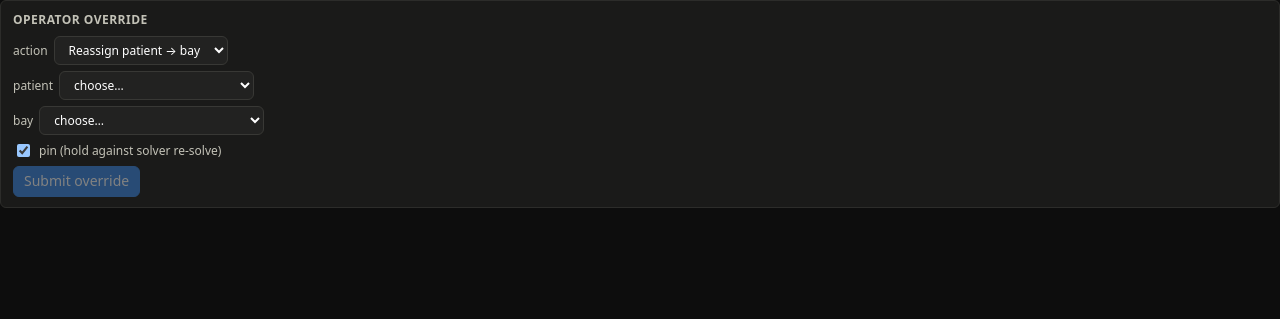
Test: OverridePanel reject path › renders every Violation verbatim: kind + detail + entity
Select "Reassign patient → bay" in the dropdown named "override action" at point(141, 51), box x1=54 y1=36 x2=228 y2=65
Select "p-0001 · ESI-3 · waiting_bay" in the dropdown labelled "patient" at point(157, 86), box x1=59 y1=71 x2=254 y2=100
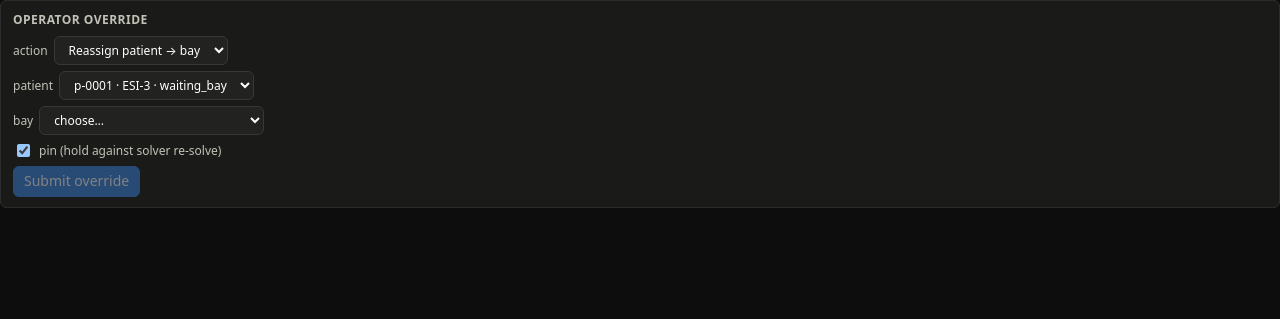
Select "bay-g1 · general · free" in the dropdown labelled "bay" at point(152, 121), box x1=39 y1=106 x2=264 y2=135
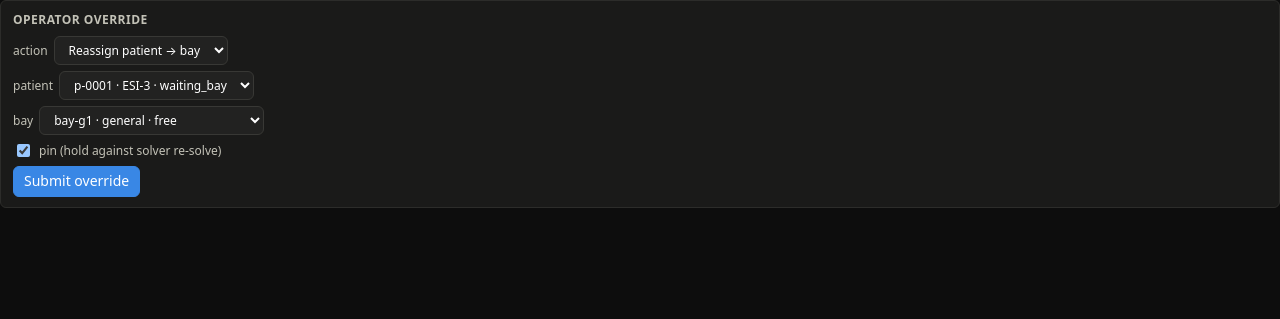
Click the button "Submit override".
click(77, 182)  # box x1=13 y1=166 x2=140 y2=197
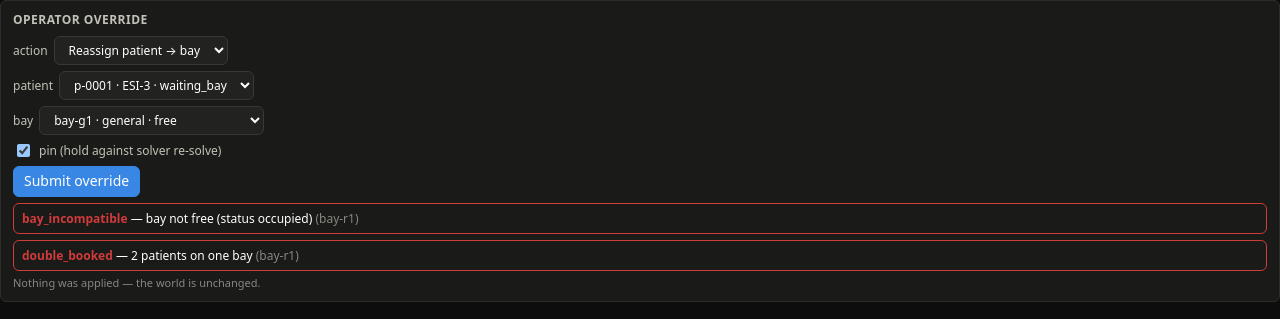
Result: the message shows "bay_incompatible" at x1=22 y1=210 x2=128 y2=227
Result: the message shows "bay not free (status occupied)" at x1=146 y1=210 x2=312 y2=227
Result: the message shows "double_booked" at x1=22 y1=247 x2=113 y2=264
